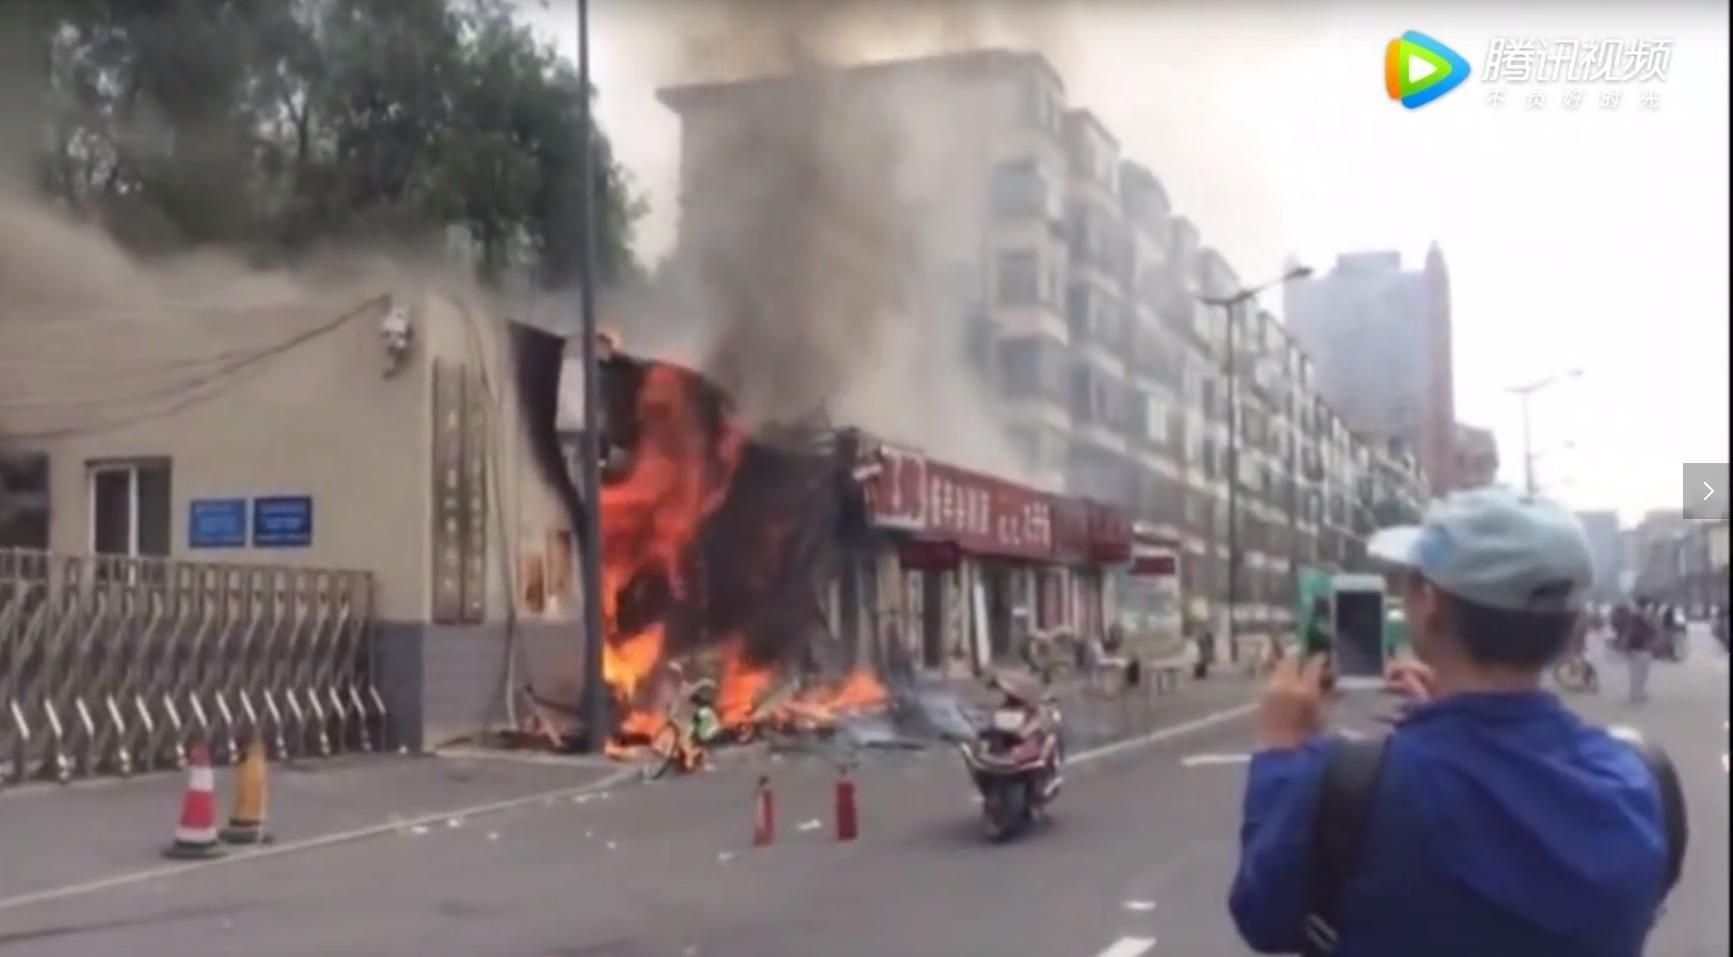fire: (588, 356, 885, 761)
